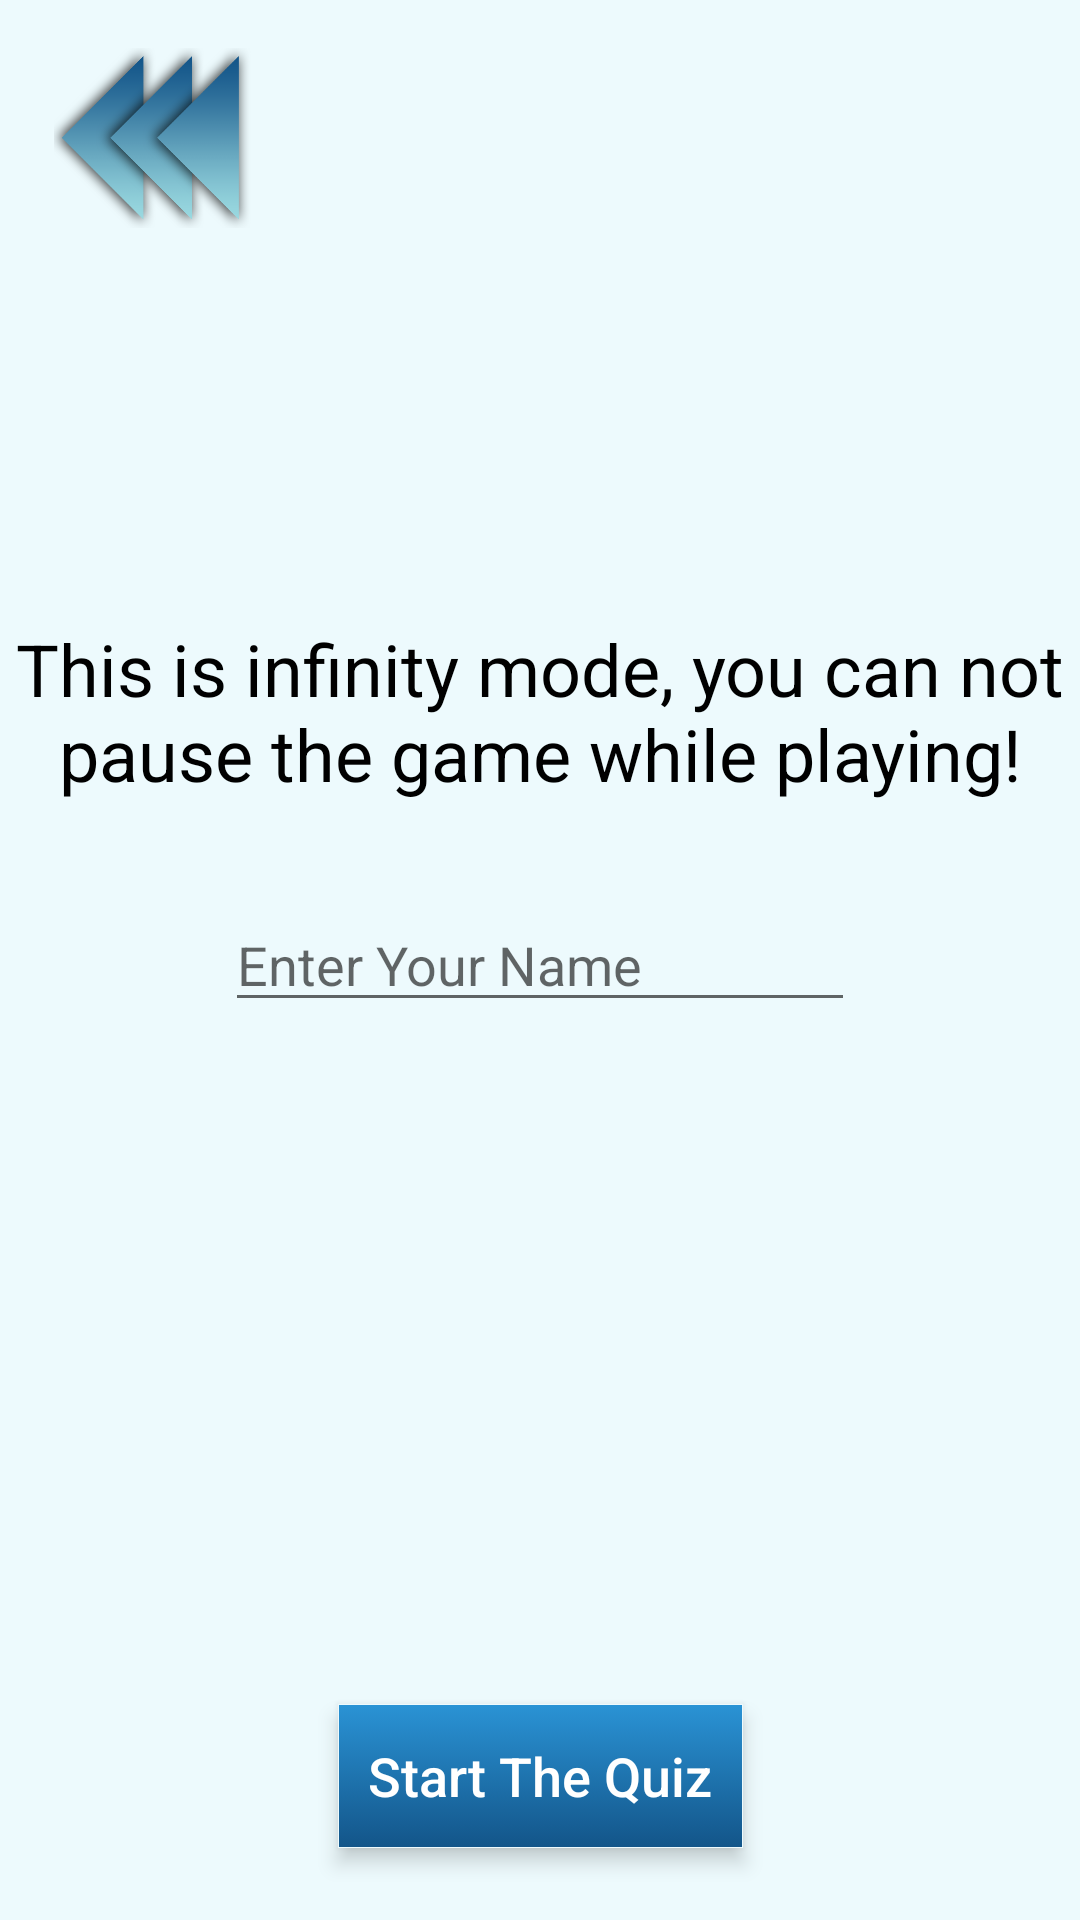

Icon click points for this 1080 × 1920 phone screenshot, format [x,y]:
back: [150,138]
